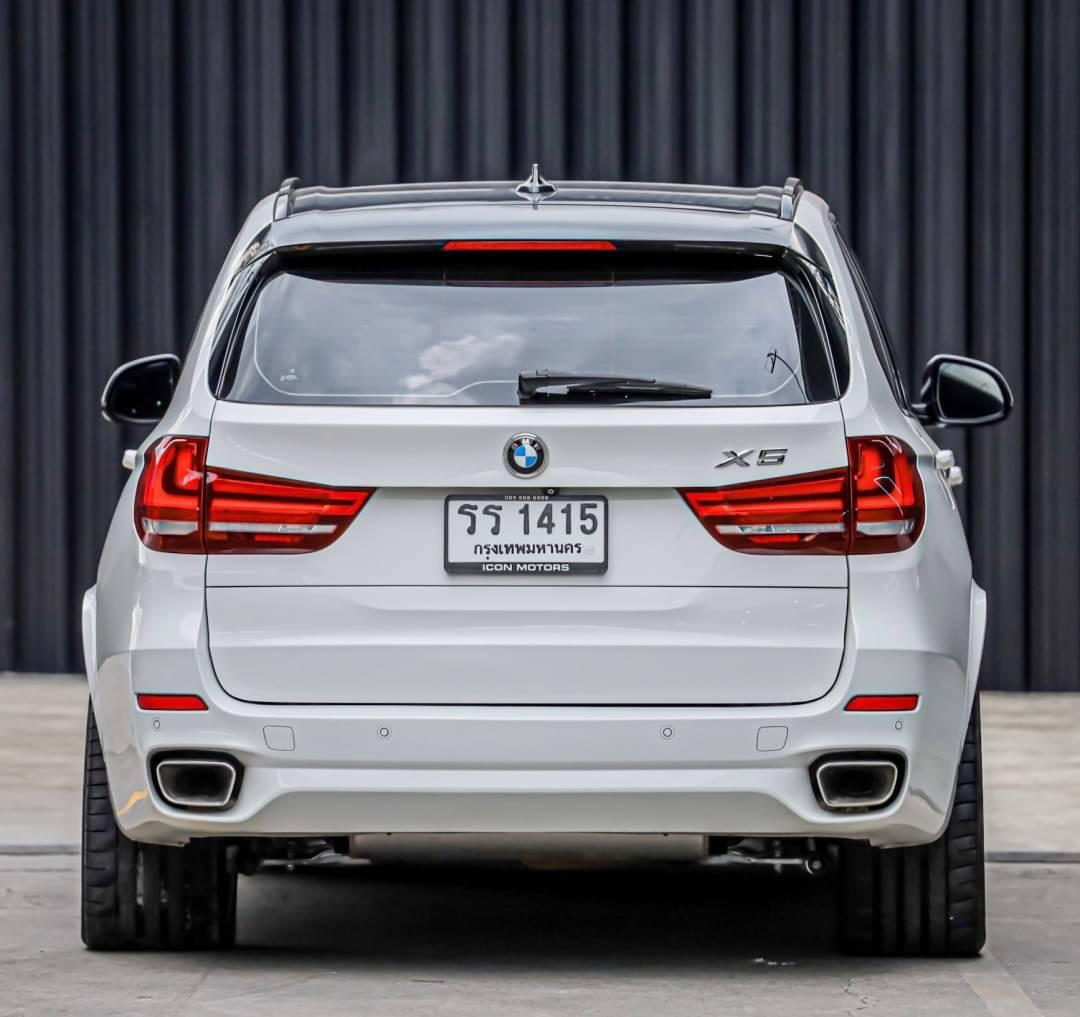license-plate: (445, 491, 611, 580)
